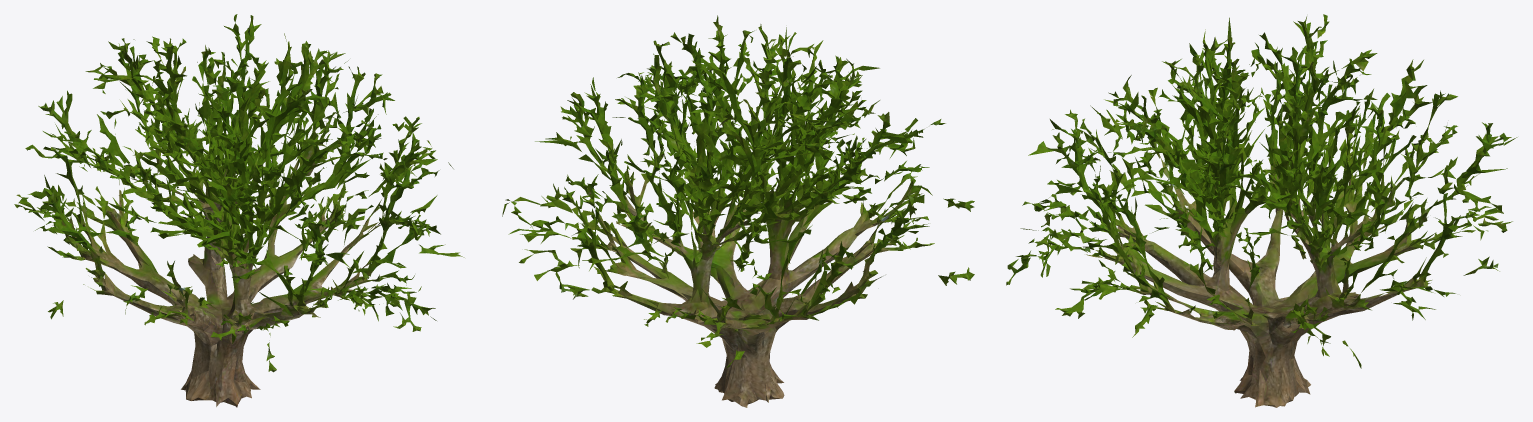
File: w4angsana.glb
The picture shows the model from 3 angles, left to right: view 1: azimuth 30°, elevation 25°; view 2: azimuth 150°, elevation 25°; view 3: azimuth 270°, elevation 25°; orthographic projection. The views are drawn at different scales.
Visible parts, largest first — view 1: output_unwrapped; view 2: output_unwrapped; view 3: output_unwrapped.
Boxes of the visible parts, bbox=[...] form: output_unwrapped: bbox=[14, 14, 464, 407]; output_unwrapped: bbox=[502, 15, 974, 407]; output_unwrapped: bbox=[1006, 14, 1517, 407].
Size of the model in its own units: 13.61 by 11 by 13.78.
Materials: 1 (1 with a texture image).
